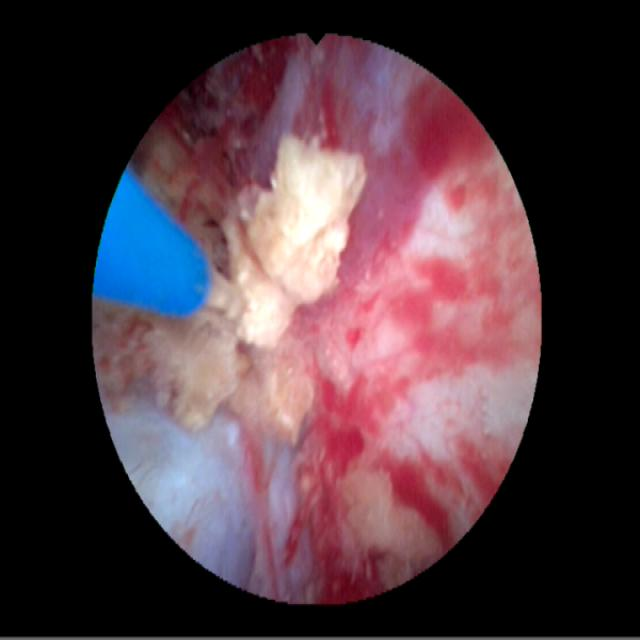fiber: (96, 176, 204, 310)
stone: (97, 134, 364, 445)
